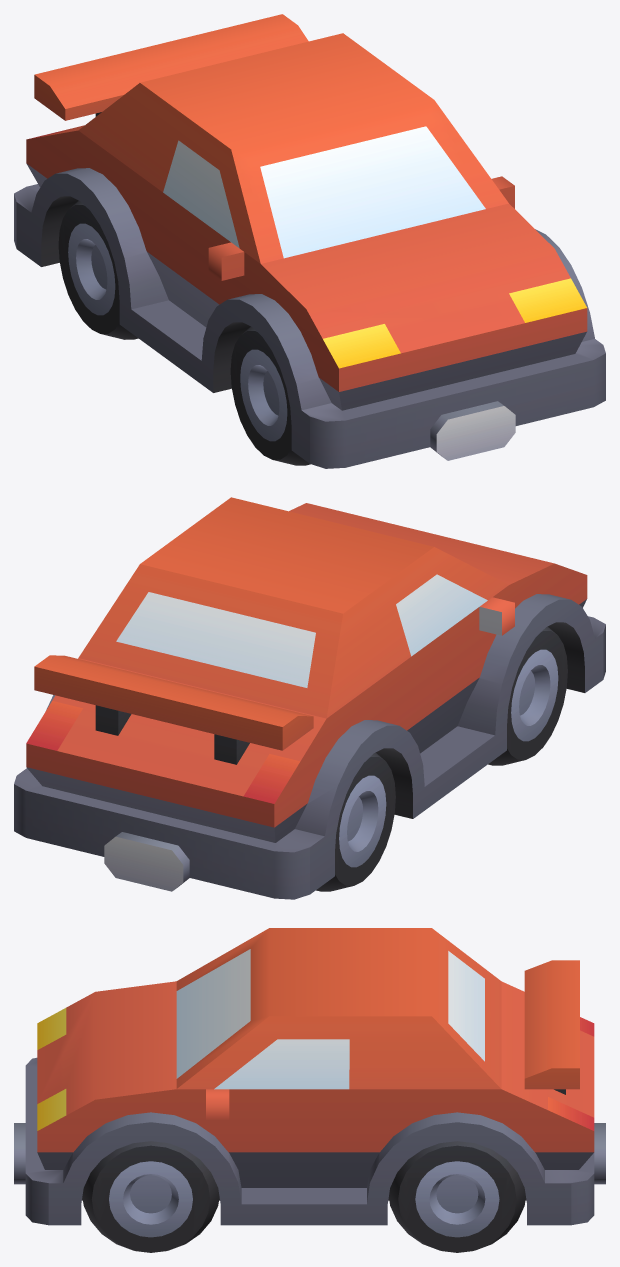
File: sedan-sports.glb
3 renders of one model, top to bottom at view 1: azimuth 30°, elevation 25°; view 2: azimuth 150°, elevation 25°; view 3: azimuth 270°, elevation 25°, orthographic. The views are drawn at different scales.
Visible parts, largest first — view 1: wheel-back-right; view 2: wheel-back-right; view 3: wheel-back-right.
Part boxes in pixels (x1=…): wheel-back-right: x1=14, y1=14, x2=605, y2=468; wheel-back-right: x1=14, y1=497, x2=605, y2=899; wheel-back-right: x1=14, y1=928, x2=605, y2=1252.
Bounding box in the file's own units: 1.3 × 1.1 × 2.55.
1 material, 1 textured.
